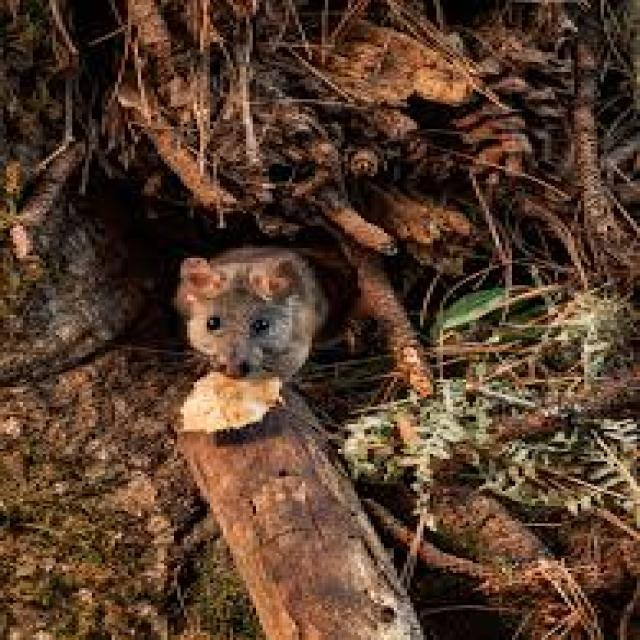Rat: (133, 218, 339, 386)
